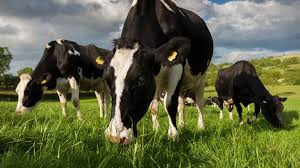cow: (98, 52, 155, 140), (3, 74, 62, 116), (248, 88, 290, 125)
